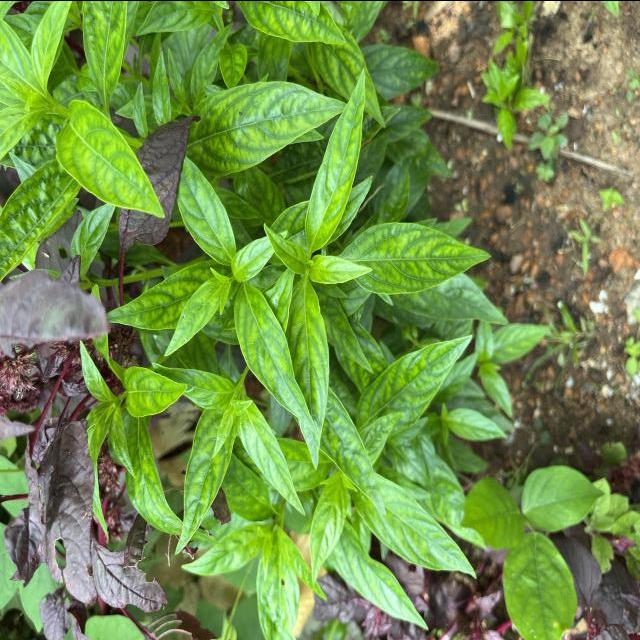Andrographis paniculata: (186, 77, 347, 176), (53, 96, 166, 222), (231, 282, 321, 437), (351, 474, 479, 581), (302, 64, 367, 254), (355, 333, 473, 435), (341, 220, 493, 296), (173, 407, 240, 556), (236, 390, 307, 520), (176, 164, 238, 268), (162, 274, 228, 357), (306, 473, 349, 585), (120, 364, 190, 417), (262, 222, 311, 276)
